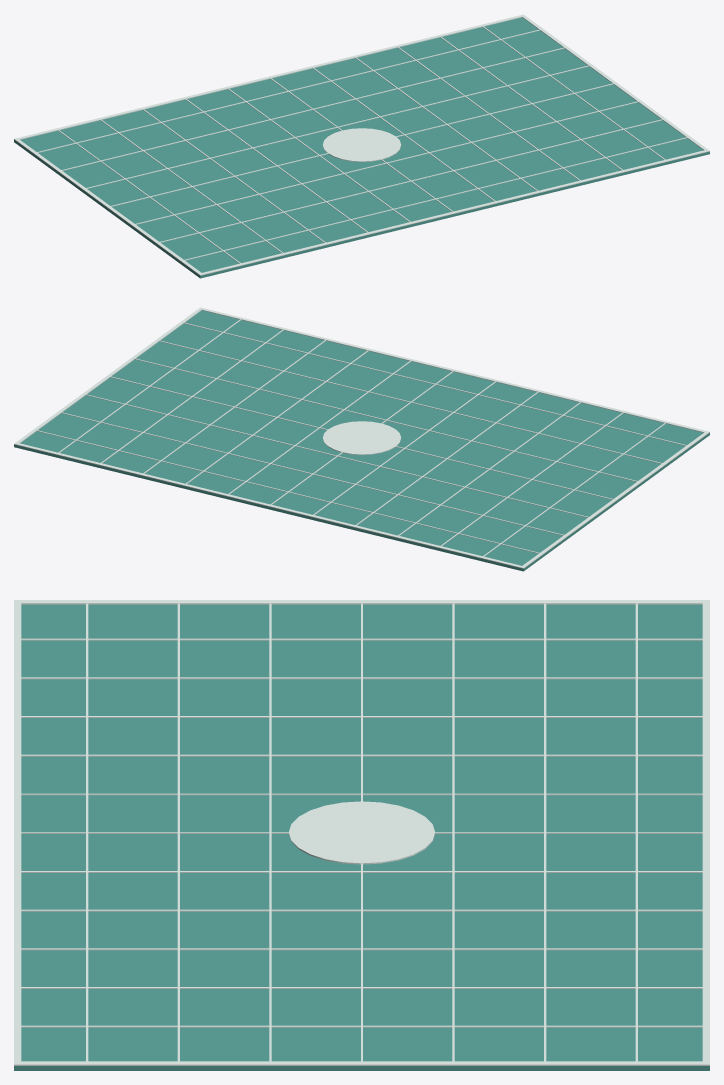
The model's file is repair-mat.glb.
The picture shows the model from 3 angles, top to bottom: view 1: azimuth 30°, elevation 25°; view 2: azimuth 150°, elevation 25°; view 3: azimuth 270°, elevation 25°; orthographic projection. The views are drawn at different scales.
Visible parts, largest first — view 1: mat; view 2: mat; view 3: mat.
Boxes of the visible parts, x1,y1,x2,y2 form: mat: (14, 14, 709, 278); mat: (14, 307, 709, 571); mat: (14, 600, 709, 1070).
Size of the model in its own units: 0.6 by 0.0038 by 0.38.
